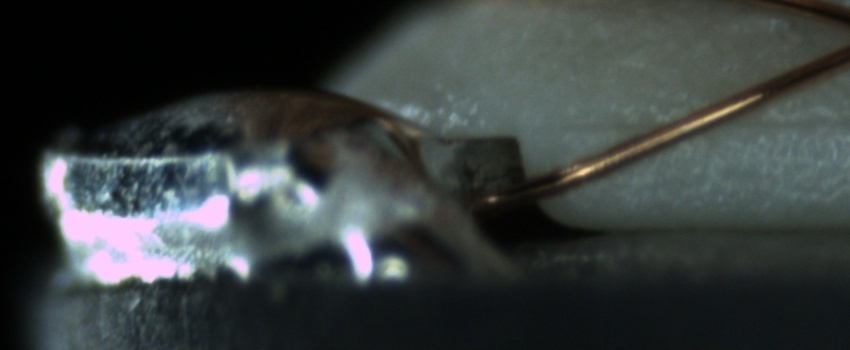DL: (566, 89, 848, 152)
